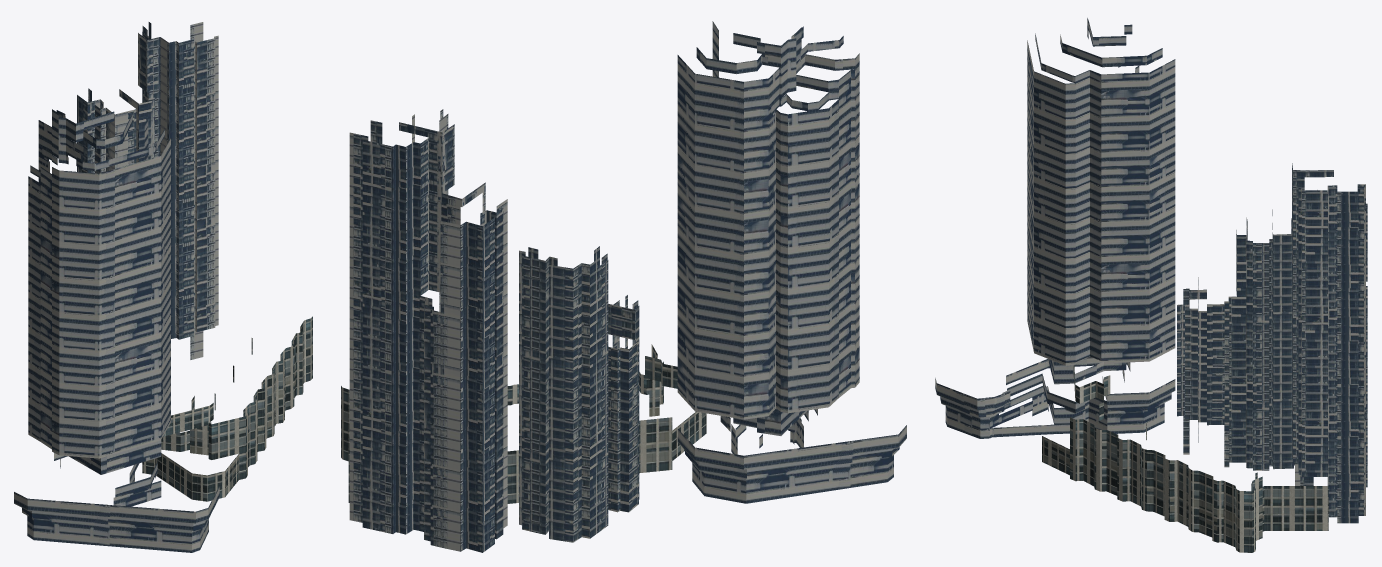
3 views of the same model, side by side, from view 1: azimuth 30°, elevation 25°; view 2: azimuth 150°, elevation 25°; view 3: azimuth 270°, elevation 25° (orthographic). The views are drawn at different scales.
Visible parts, largest first — view 1: SilverRibbonGlazing, GalleryScreens, LimestonePiers; view 2: SilverRibbonGlazing, GalleryScreens, BalconyBays, LimestonePiers; view 3: SilverRibbonGlazing, GalleryScreens, BalconyBays, LimestonePiers.
Boxes of the visible parts, x1,y1,x2,y2 form: SilverRibbonGlazing: (14, 109, 219, 552); GalleryScreens: (77, 22, 218, 359); LimestonePiers: (142, 316, 312, 501); SilverRibbonGlazing: (677, 21, 906, 503); GalleryScreens: (349, 109, 507, 552); BalconyBays: (519, 246, 639, 542); LimestonePiers: (341, 344, 706, 503); SilverRibbonGlazing: (935, 18, 1175, 438); GalleryScreens: (1292, 163, 1367, 523); BalconyBays: (1177, 209, 1294, 470); LimestonePiers: (1042, 365, 1328, 552).
Size of the model in its own units: 169 by 162 by 165.
4 materials, 4 textured.
